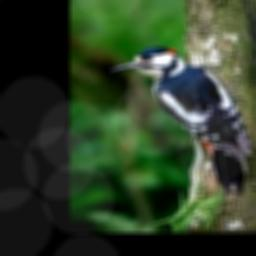Woodpecker: (110, 47, 253, 197)
